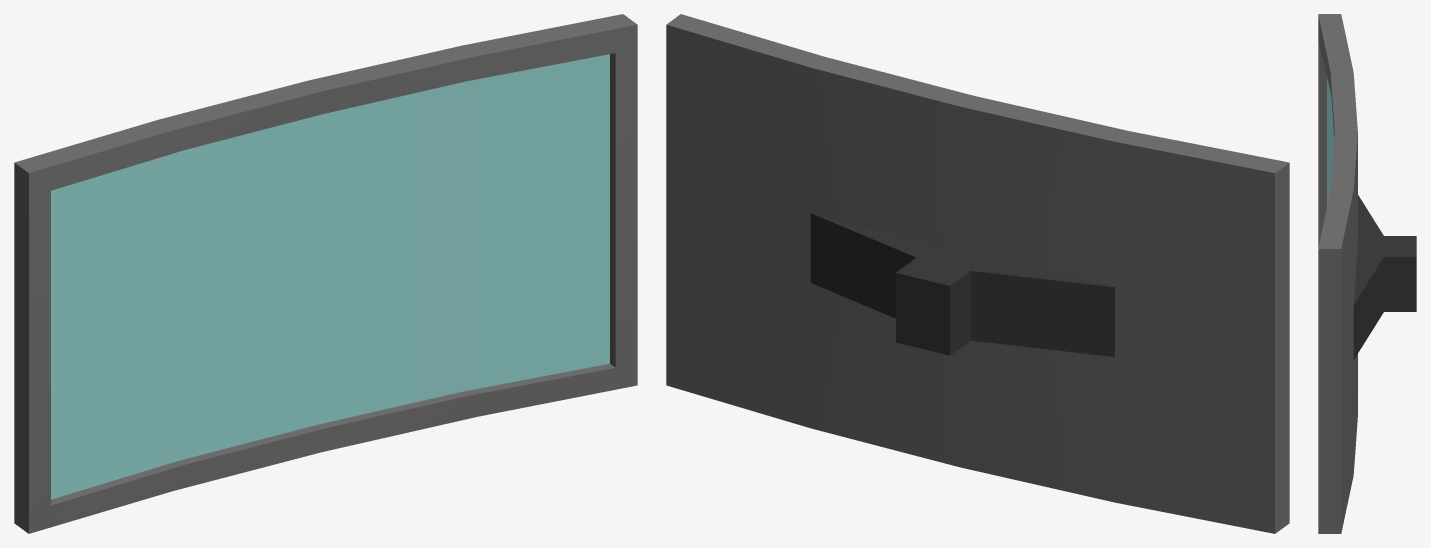
Rendered from Monitor.fbx.
The picture shows the model from 3 angles, left to right: view 1: azimuth 30°, elevation 25°; view 2: azimuth 150°, elevation 25°; view 3: azimuth 270°, elevation 25°; orthographic projection. The views are drawn at different scales.
Parts seen in each view (by area): view 1: Monitor; view 2: Monitor; view 3: Monitor.
Part boxes in pixels (<box>): Monitor: <box>14,14,637,533</box>; Monitor: <box>666,14,1289,533</box>; Monitor: <box>1318,14,1416,533</box>.
Bounding box in the file's own units: 305 × 172 × 54.01.
